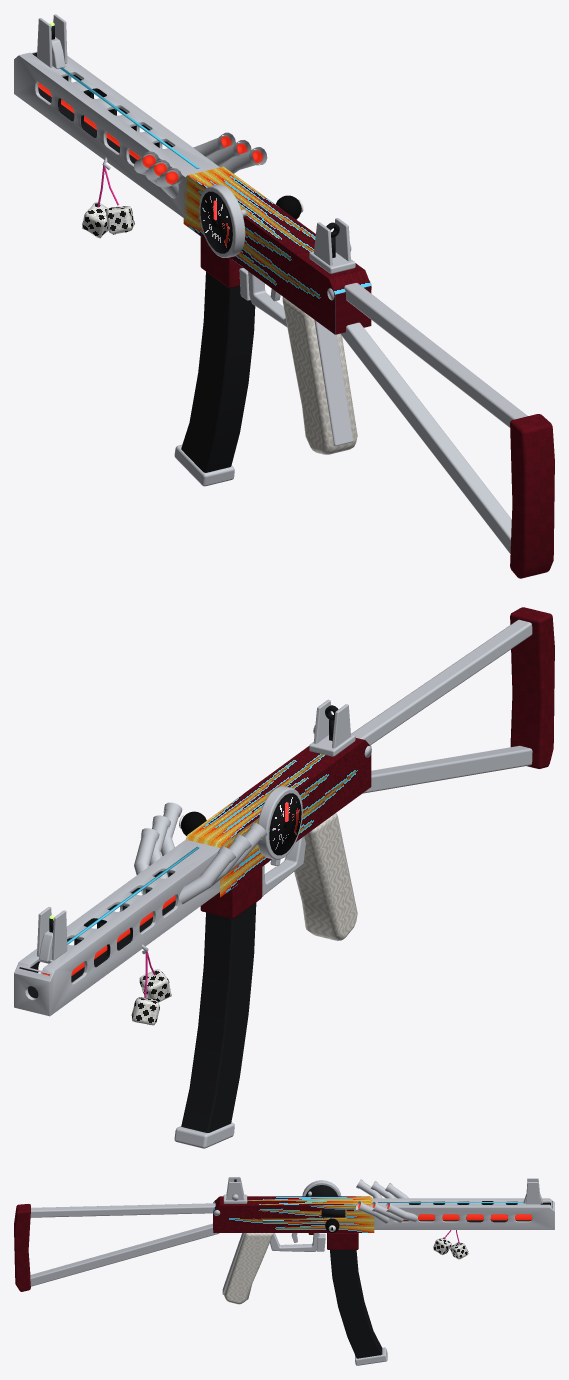
File: w_redline_hotrod.glb
3 renders of one model, top to bottom at view 1: azimuth 30°, elevation 25°; view 2: azimuth 150°, elevation 25°; view 3: azimuth 270°, elevation 25°, orthographic. The views are drawn at different scales.
Parts seen in each view (by area): view 1: hotrod_body_wzA, hotrod_body_wzB, hotrod_body_wzN; view 2: hotrod_body_wzB, hotrod_body_wzA, hotrod_body_wzN; view 3: hotrod_body_wzA, hotrod_body_wzB, hotrod_body_wzN.
Part boxes in pixels (left/top/right/bottom): hotrod_body_wzA: left=183, top=166, right=554, bottom=578; hotrod_body_wzB: left=14, top=14, right=355, bottom=486; hotrod_body_wzN: left=49, top=22, right=303, bottom=253; hotrod_body_wzB: left=14, top=699, right=355, bottom=1148; hotrod_body_wzA: left=185, top=607, right=554, bottom=940; hotrod_body_wzN: left=49, top=794, right=301, bottom=1025; hotrod_body_wzA: left=14, top=1196, right=374, bottom=1304; hotrod_body_wzB: left=222, top=1177, right=554, bottom=1365; hotrod_body_wzN: left=328, top=1202, right=523, bottom=1259.
Size of the model in its own units: 0.1222 by 0.363 by 0.9747.
14 materials, 5 textured.
